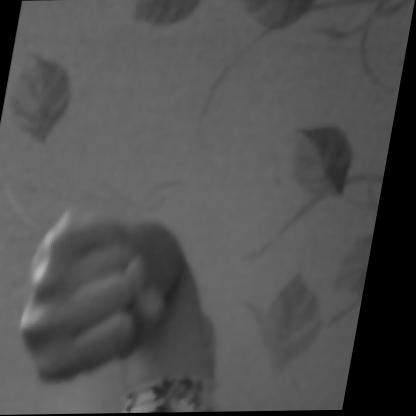fist: (7, 194, 267, 411)
